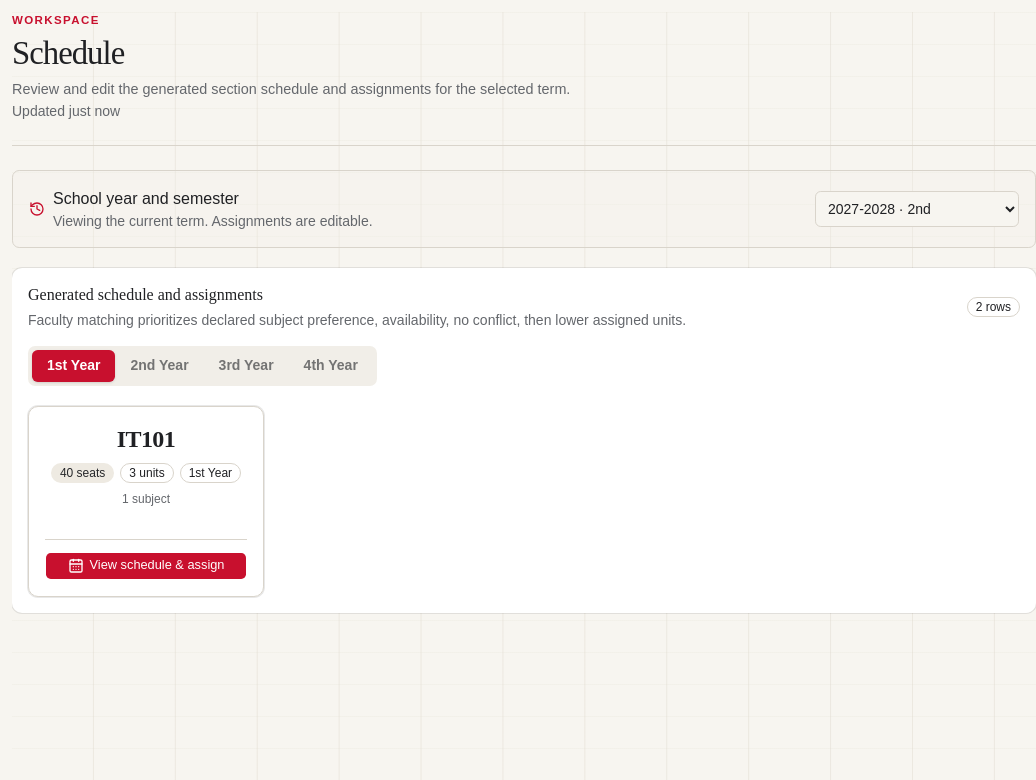
Scenario: ScheduleWorkspace › shows the IT101 block only under its linked year tab, not the long flat list
Expected: the element named "IT101 section" is shown, top-left (28, 406), bottom-right (264, 597)
What coordinates should you click on to do the following:
click the tab "2nd Year"
I would click on:
 (160, 366)
Its box is top-left (116, 350), bottom-right (204, 382).
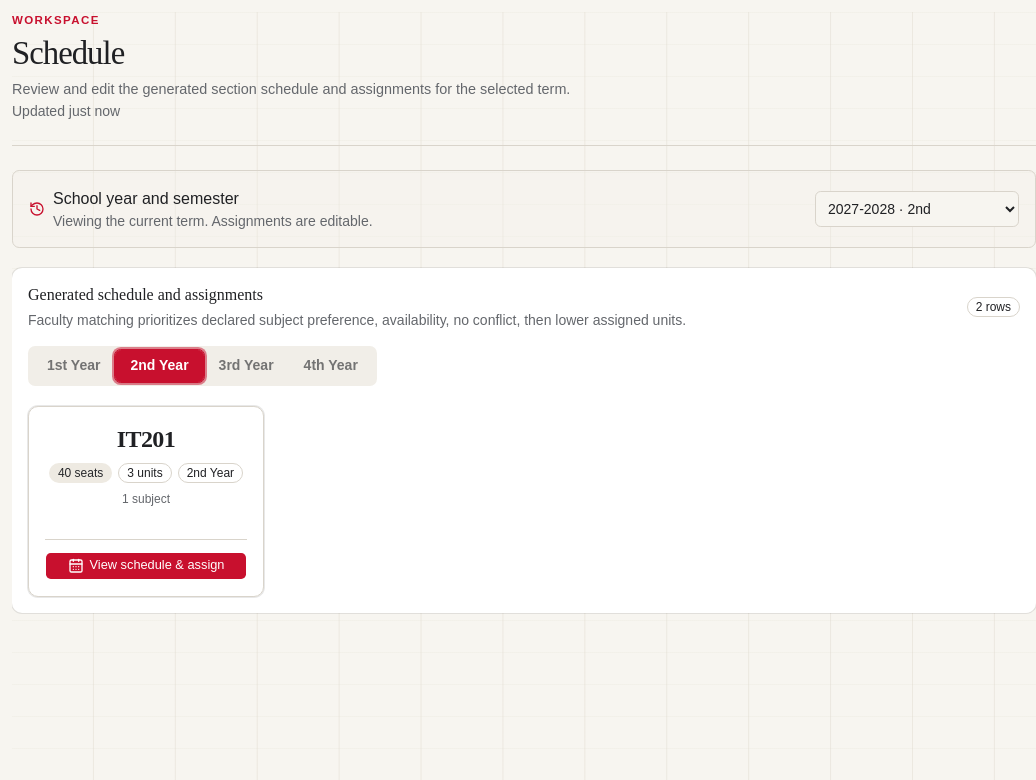
Expected: the element named "IT201 section" is shown, top-left (28, 406), bottom-right (264, 597)
